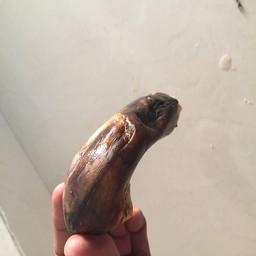Bad_banana: (58, 85, 183, 240)
